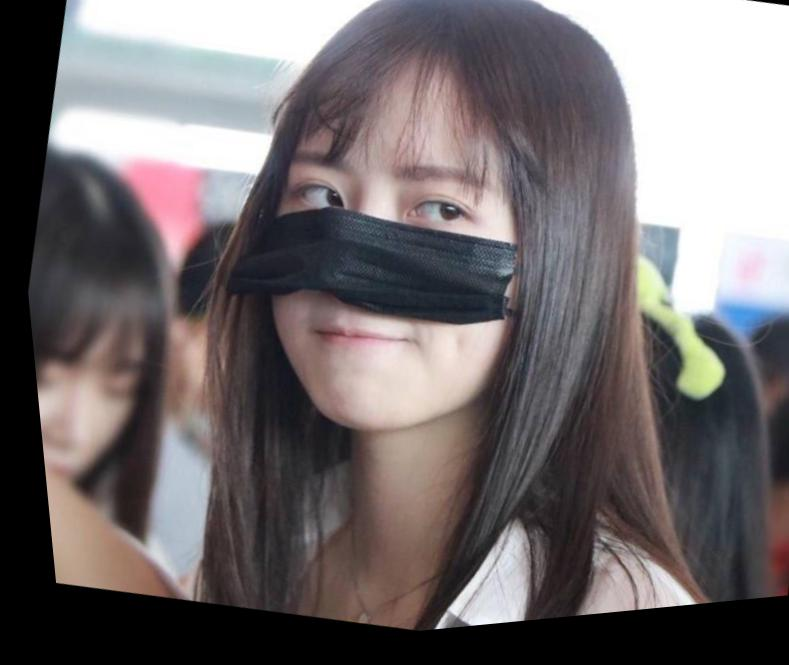NONE: (24, 301, 165, 536)
WRONG: (210, 71, 575, 482)
